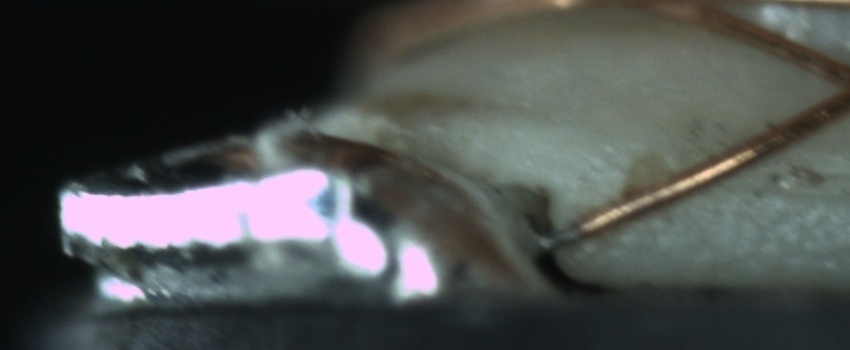CL: (808, 49, 850, 121)
DL: (706, 152, 849, 216)
TS: (542, 224, 578, 250)
